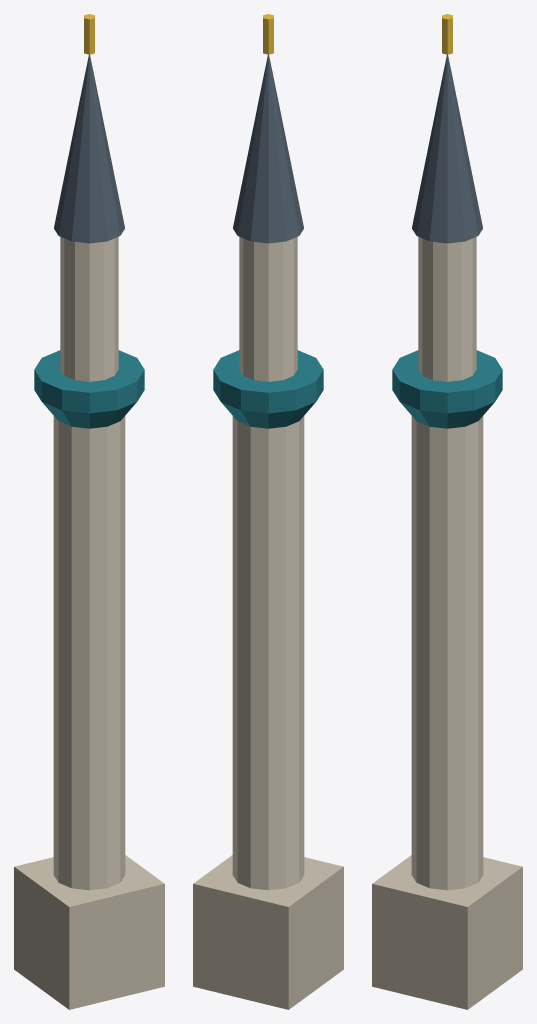
File: minaret-pencil.glb
3 renders of one model, left to right at view 1: azimuth 30°, elevation 25°; view 2: azimuth 150°, elevation 25°; view 3: azimuth 330°, elevation 25°, orthographic.
Visible parts, largest first — view 1: minaret-pencil; view 2: minaret-pencil; view 3: minaret-pencil.
Part boxes in pixels (x1,y1,x2,y2): minaret-pencil: (14,14,164,1009); minaret-pencil: (193,14,343,1009); minaret-pencil: (372,14,522,1009).
Bounding box in the file's own units: 0.34 × 3.27 × 0.34.
